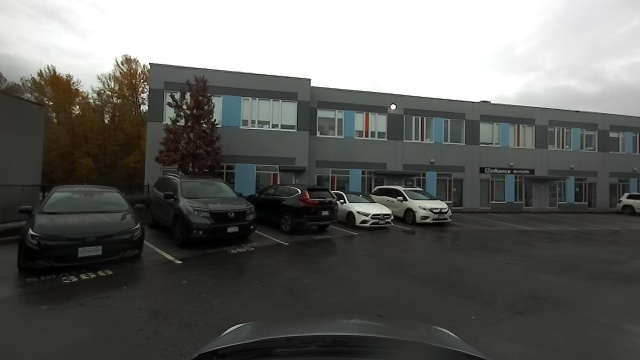car: (16, 183, 146, 269), (150, 173, 258, 242), (257, 182, 337, 232), (375, 183, 452, 226), (335, 192, 393, 231)
